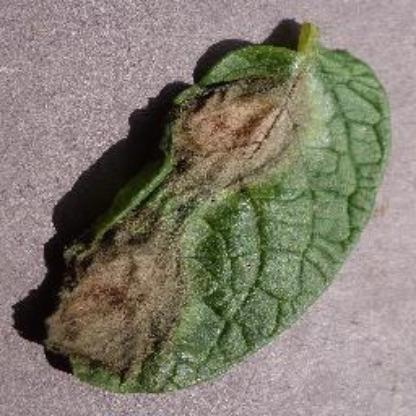Late-Blight: (37, 18, 390, 394)
